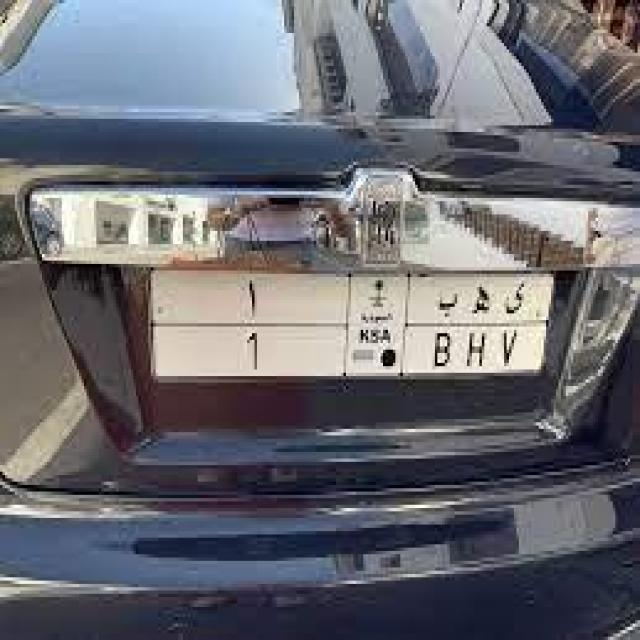license_plate: (147, 252, 564, 384)
